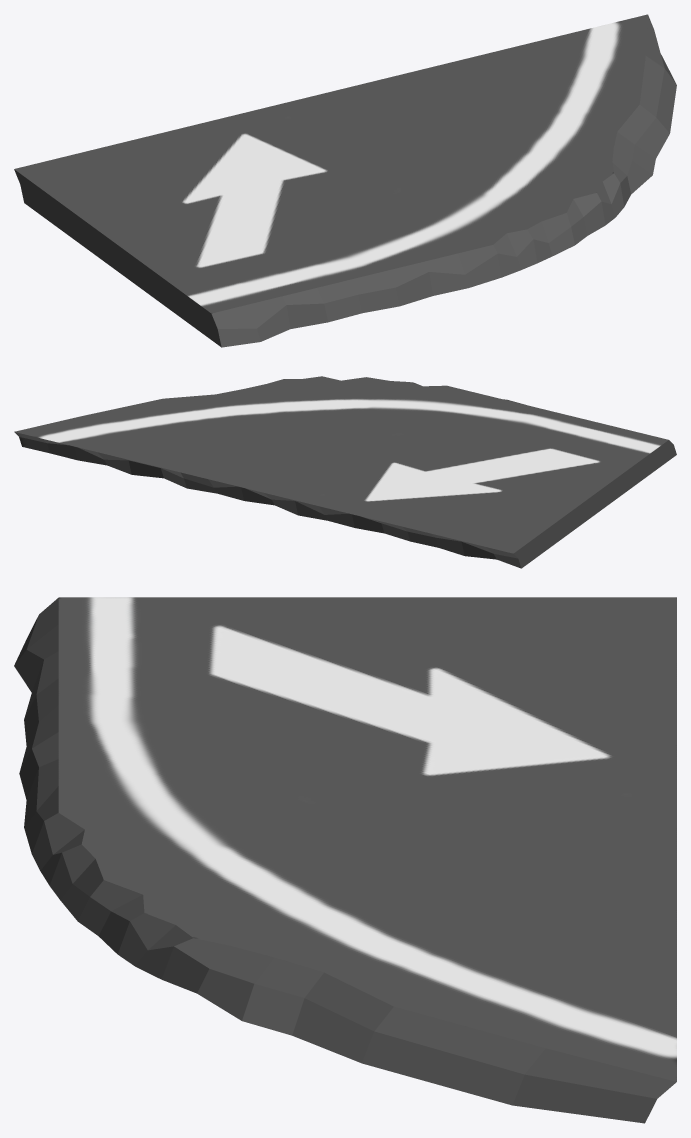
Rendered from road_merge_end.fbx.
3 renders of one model, top to bottom at view 1: azimuth 30°, elevation 25°; view 2: azimuth 150°, elevation 25°; view 3: azimuth 270°, elevation 25°, orthographic. The views are drawn at different scales.
Visible parts, largest first — view 1: road_merge_end; view 2: road_merge_end; view 3: road_merge_end.
Boxes of the visible parts, box(x1,y1,x2,y2) form: road_merge_end: box(14, 14, 676, 347); road_merge_end: box(14, 376, 676, 568); road_merge_end: box(14, 597, 676, 1123).
Bounding box in the file's own units: 289 × 500 × 20.
